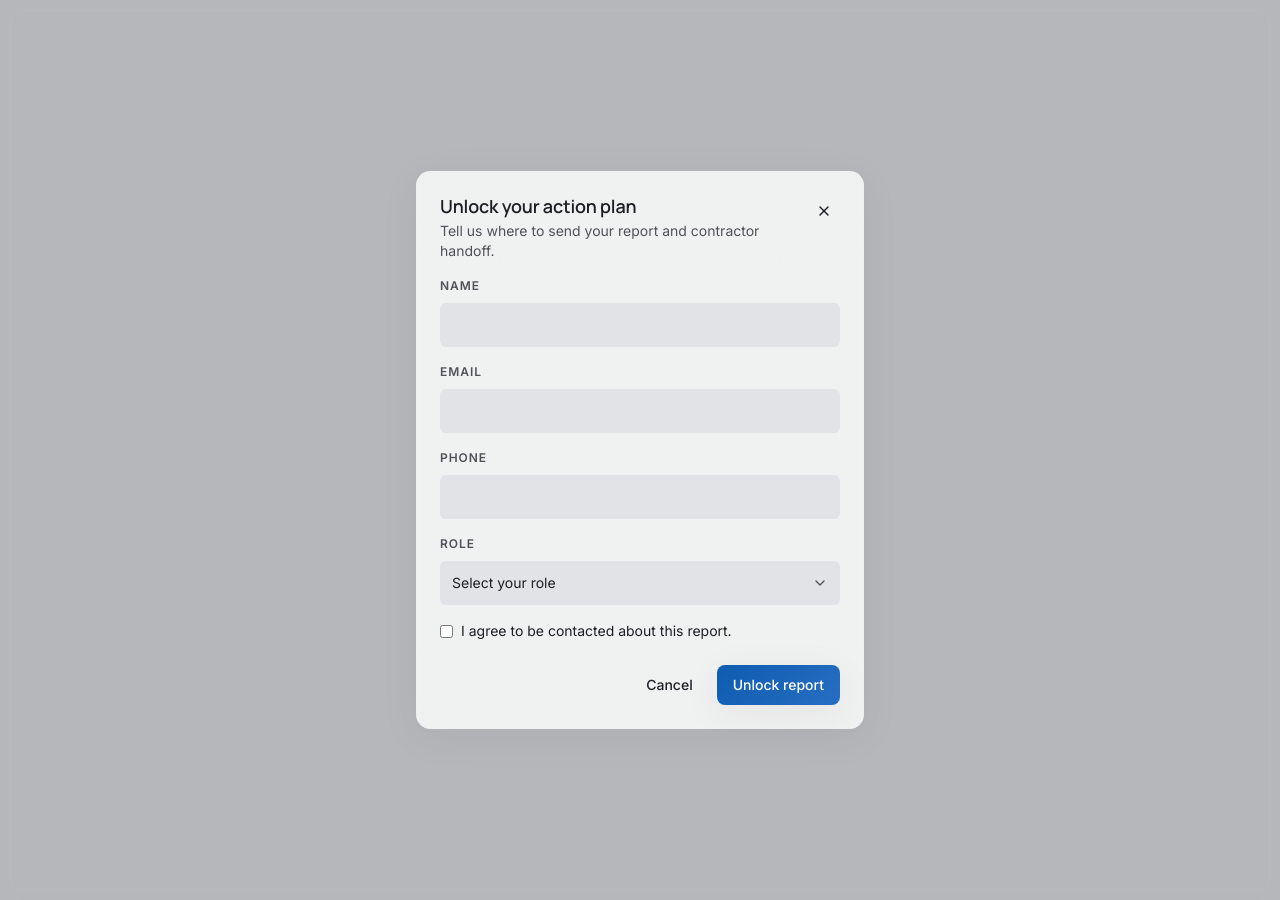
Test: LeadModal › shows required-field validation messages on empty submit
Click the button "Unlock report" at (778, 685), box [717,665,840,705]
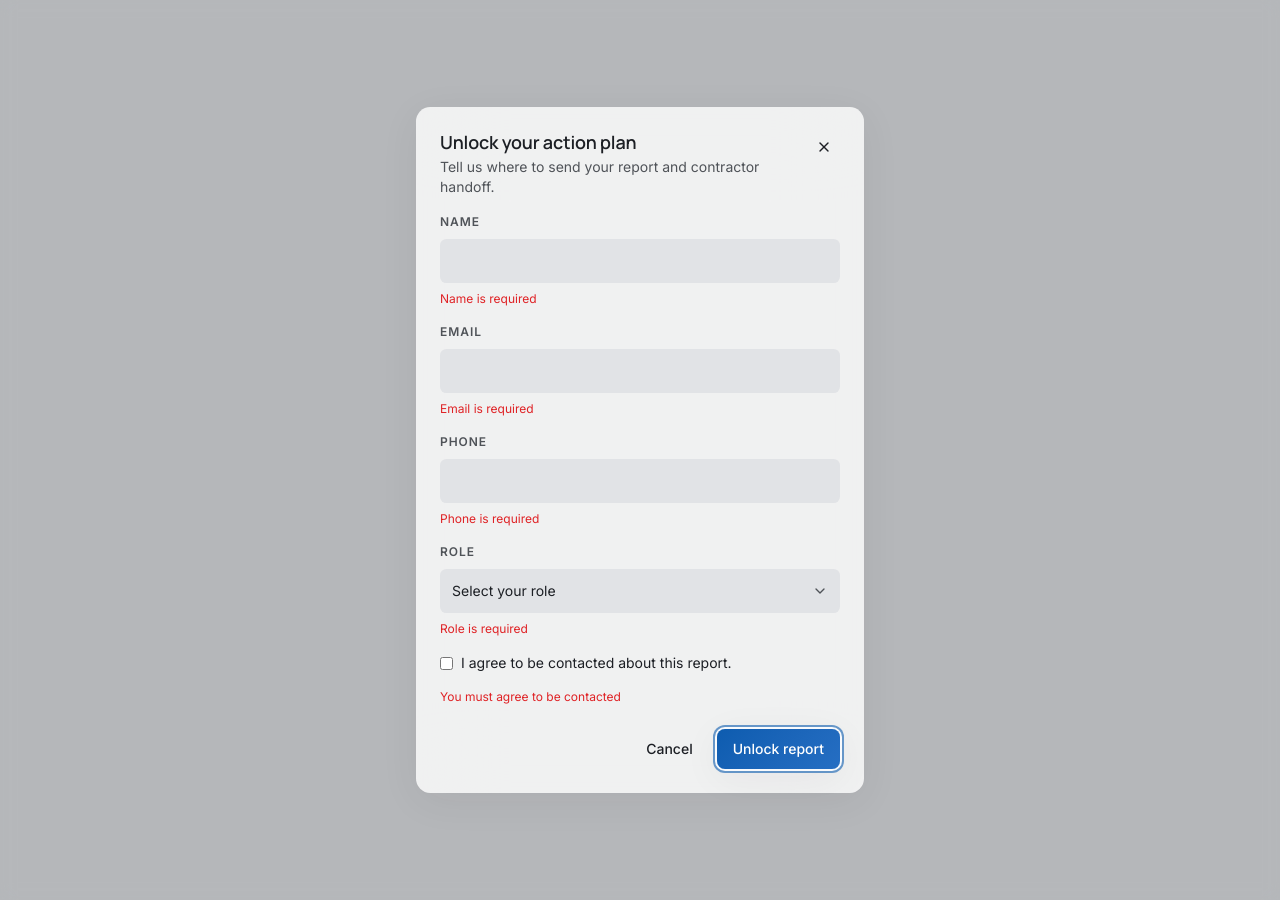
Check: the text "Name is required" is shown, box [440,291,537,306]
Check: the text "Email is required" is shown, box [440,401,534,416]
Check: the text "Phone is required" is shown, box [440,511,539,526]
